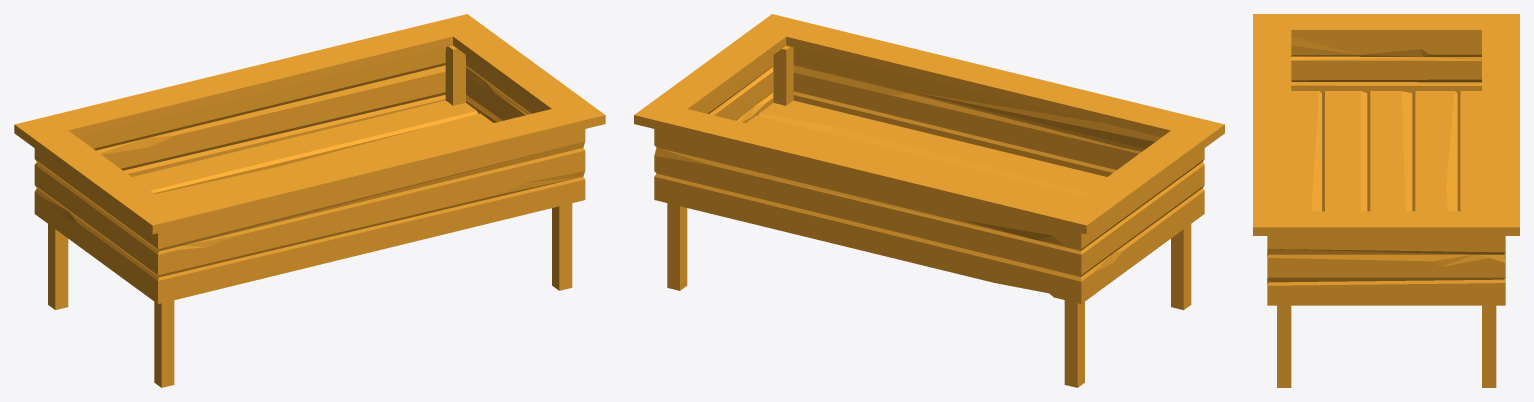
Rendered from SM_Planter_Box_A_Farm.fbx.
3 renders of one model, left to right at view 1: azimuth 30°, elevation 25°; view 2: azimuth 150°, elevation 25°; view 3: azimuth 270°, elevation 25°, orthographic. The views are drawn at different scales.
Parts seen in each view (by area): view 1: planter-box-a-farm; view 2: planter-box-a-farm; view 3: planter-box-a-farm.
Boxes of the visible parts, <box> form: planter-box-a-farm: <box>14,14,605,387</box>; planter-box-a-farm: <box>634,14,1224,387</box>; planter-box-a-farm: <box>1253,14,1519,387</box>.
Bounding box in the file's own units: 2.12 × 0.79 × 1.12.
